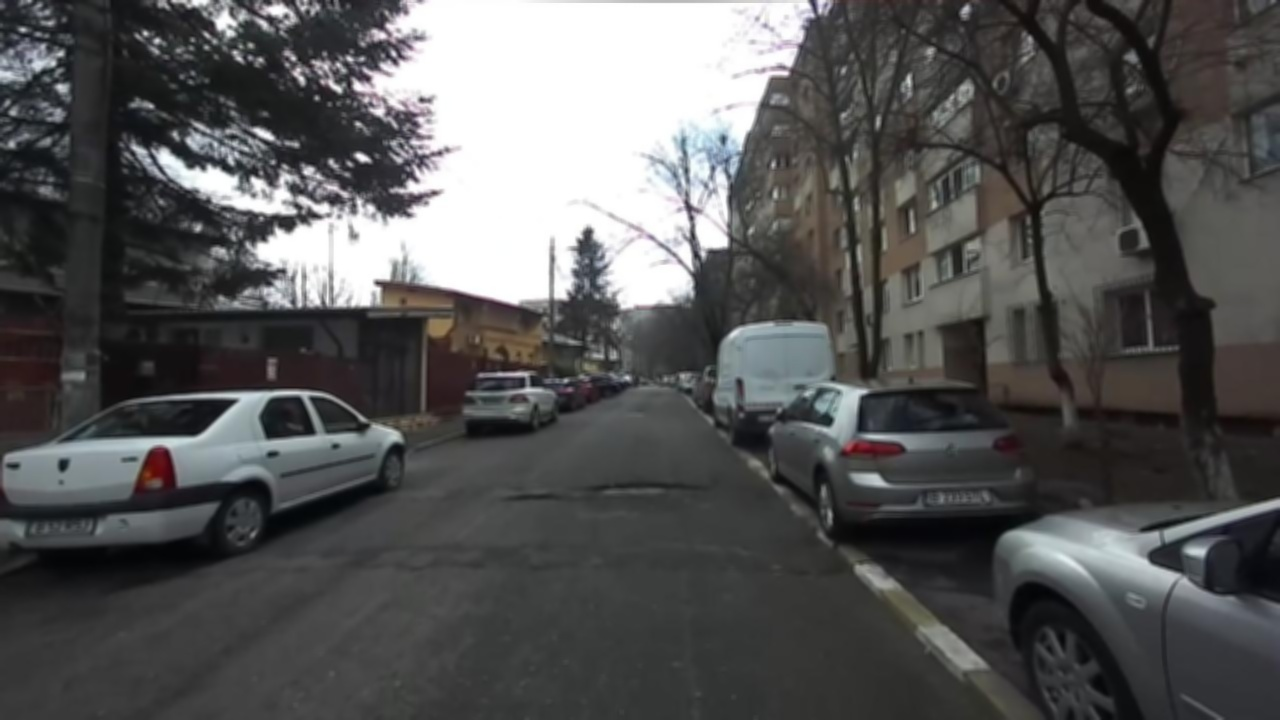pothole: (581, 478, 713, 500), (767, 563, 842, 584), (498, 490, 573, 503)
